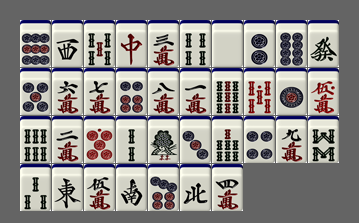0m: (308, 68, 339, 115)
0p: (84, 116, 115, 163)
0s: (244, 68, 275, 115)
1m: (180, 68, 211, 115)
1p: (276, 68, 307, 115)
1s: (148, 116, 179, 163)
1z: (52, 164, 83, 211)
2m: (52, 116, 83, 163)
2p: (244, 20, 275, 67)
2s: (116, 116, 147, 163)
2z: (116, 164, 147, 211)
3m: (148, 20, 179, 67)
3p: (180, 116, 211, 163)
3s: (20, 164, 51, 211)
3z: (52, 20, 83, 67)
4m: (212, 164, 243, 211)
4p: (244, 116, 275, 163)
4s: (180, 20, 211, 67)
4z: (180, 164, 211, 211)
5m: (84, 164, 115, 211)
5p: (20, 68, 51, 115)
5s: (84, 20, 115, 67)
5z: (212, 20, 243, 67)
6m: (52, 68, 83, 115)
6p: (116, 68, 147, 115)
6s: (20, 116, 51, 163)
6z: (308, 20, 339, 67)
7m: (84, 68, 115, 115)
7p: (148, 164, 179, 211)
7s: (212, 116, 243, 163)
7z: (116, 20, 147, 67)
8m: (148, 68, 179, 115)
8p: (276, 20, 307, 67)
8s: (308, 116, 339, 163)
9m: (276, 116, 307, 163)
9p: (20, 20, 51, 67)
9s: (212, 68, 243, 115)
